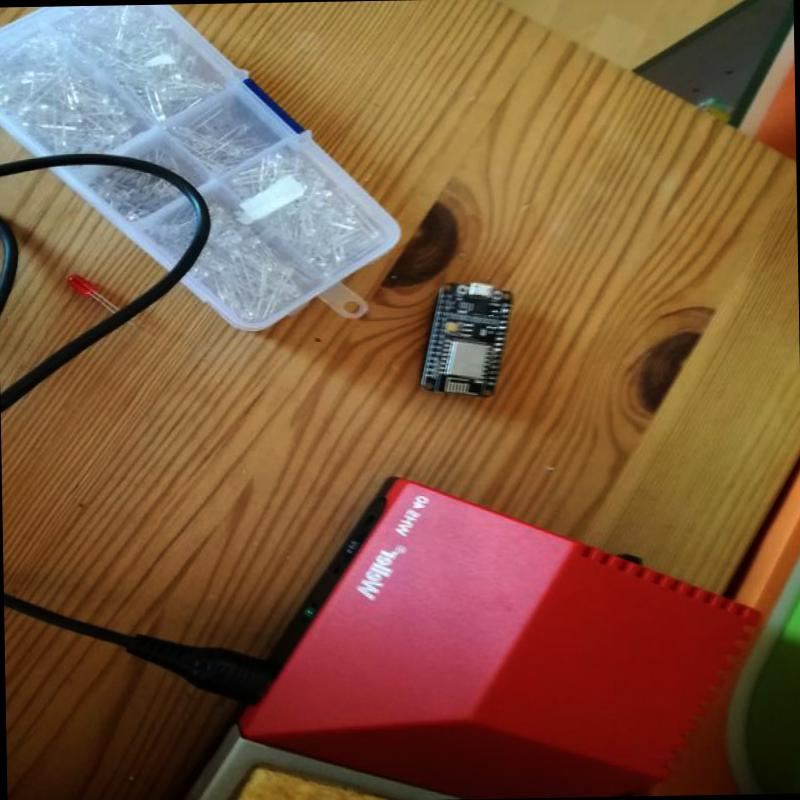ESP8266: (412, 273, 524, 401)
